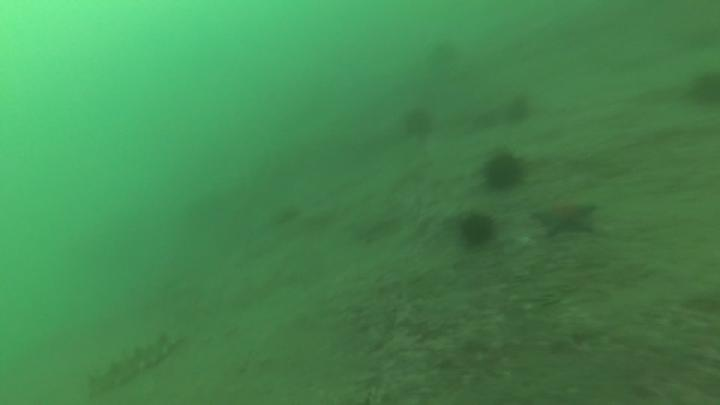echinus: (481, 150, 526, 195), (457, 209, 502, 253), (402, 106, 437, 143), (690, 67, 720, 109), (428, 39, 462, 68)
holothurian: (84, 325, 185, 399)
starfish: (531, 196, 601, 241)
